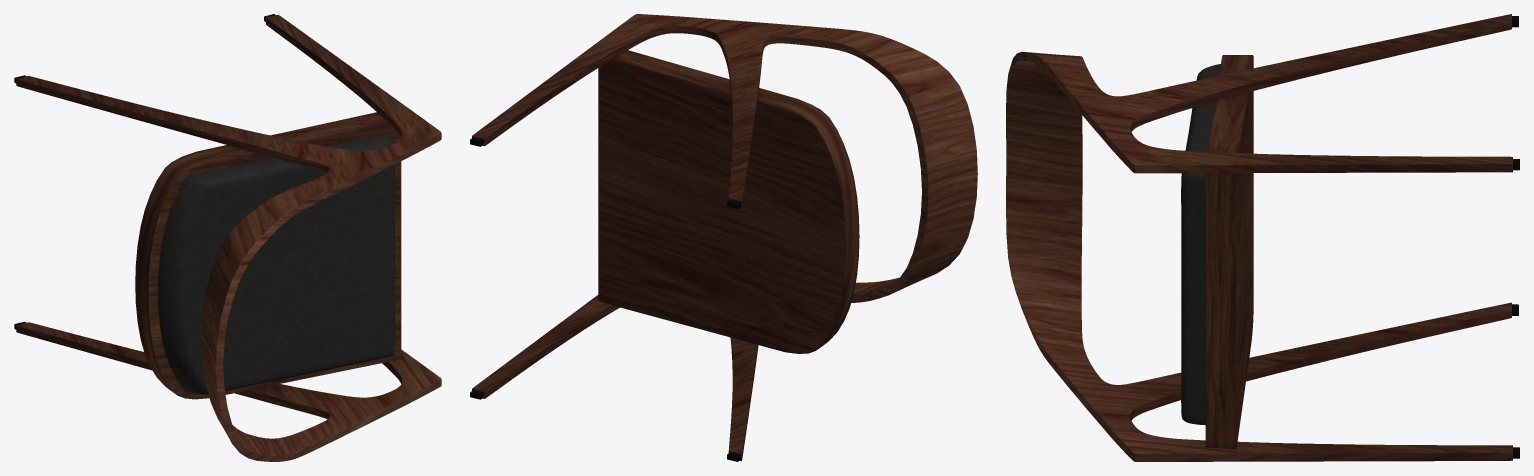
File: chair.dae
The picture shows the model from 3 angles, left to right: view 1: azimuth 30°, elevation 25°; view 2: azimuth 150°, elevation 25°; view 3: azimuth 270°, elevation 25°; orthographic projection. The views are drawn at different scales.
Visible parts, largest first — view 1: pPlane3.005; view 2: pPlane3.005; view 3: pPlane3.005.
Part boxes in pixels (box(x1,y1,x2,y2)): pPlane3.005: box(14, 14, 441, 461); pPlane3.005: box(470, 14, 977, 461); pPlane3.005: box(1006, 14, 1519, 461).
Size of the model in its own units: 0.7173 by 0.9738 by 0.6213.
Materials: 1 (1 with a texture image).
